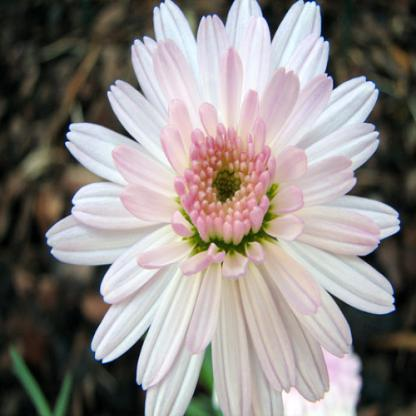ASTER: (40, 7, 410, 409)
